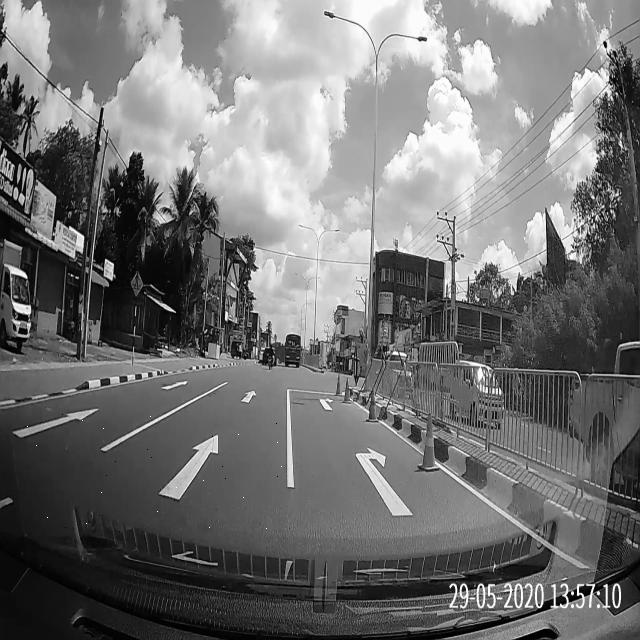diamond: (15, 412, 293, 532)
